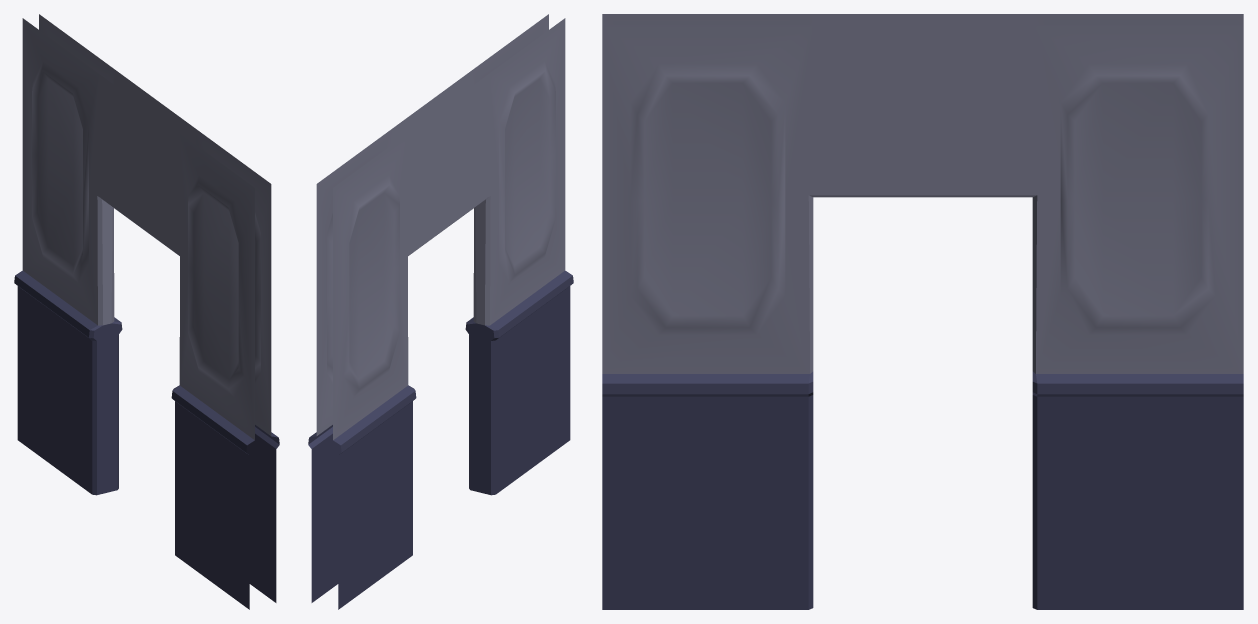
Rendered from SM_WallDoor.fbx.
The picture shows the model from 3 angles, left to right: view 1: azimuth 30°, elevation 25°; view 2: azimuth 150°, elevation 25°; view 3: azimuth 270°, elevation 25°; orthographic projection. The views are drawn at different scales.
Parts seen in each view (by area): view 1: SM_WallDoor; view 2: SM_WallDoor; view 3: SM_WallDoor.
Boxes of the visible parts, bbox=[...] form: SM_WallDoor: bbox=[14, 14, 279, 609]; SM_WallDoor: bbox=[308, 14, 573, 609]; SM_WallDoor: bbox=[602, 14, 1243, 609].
Size of the model in its own units: 24.98 by 300 by 300.
